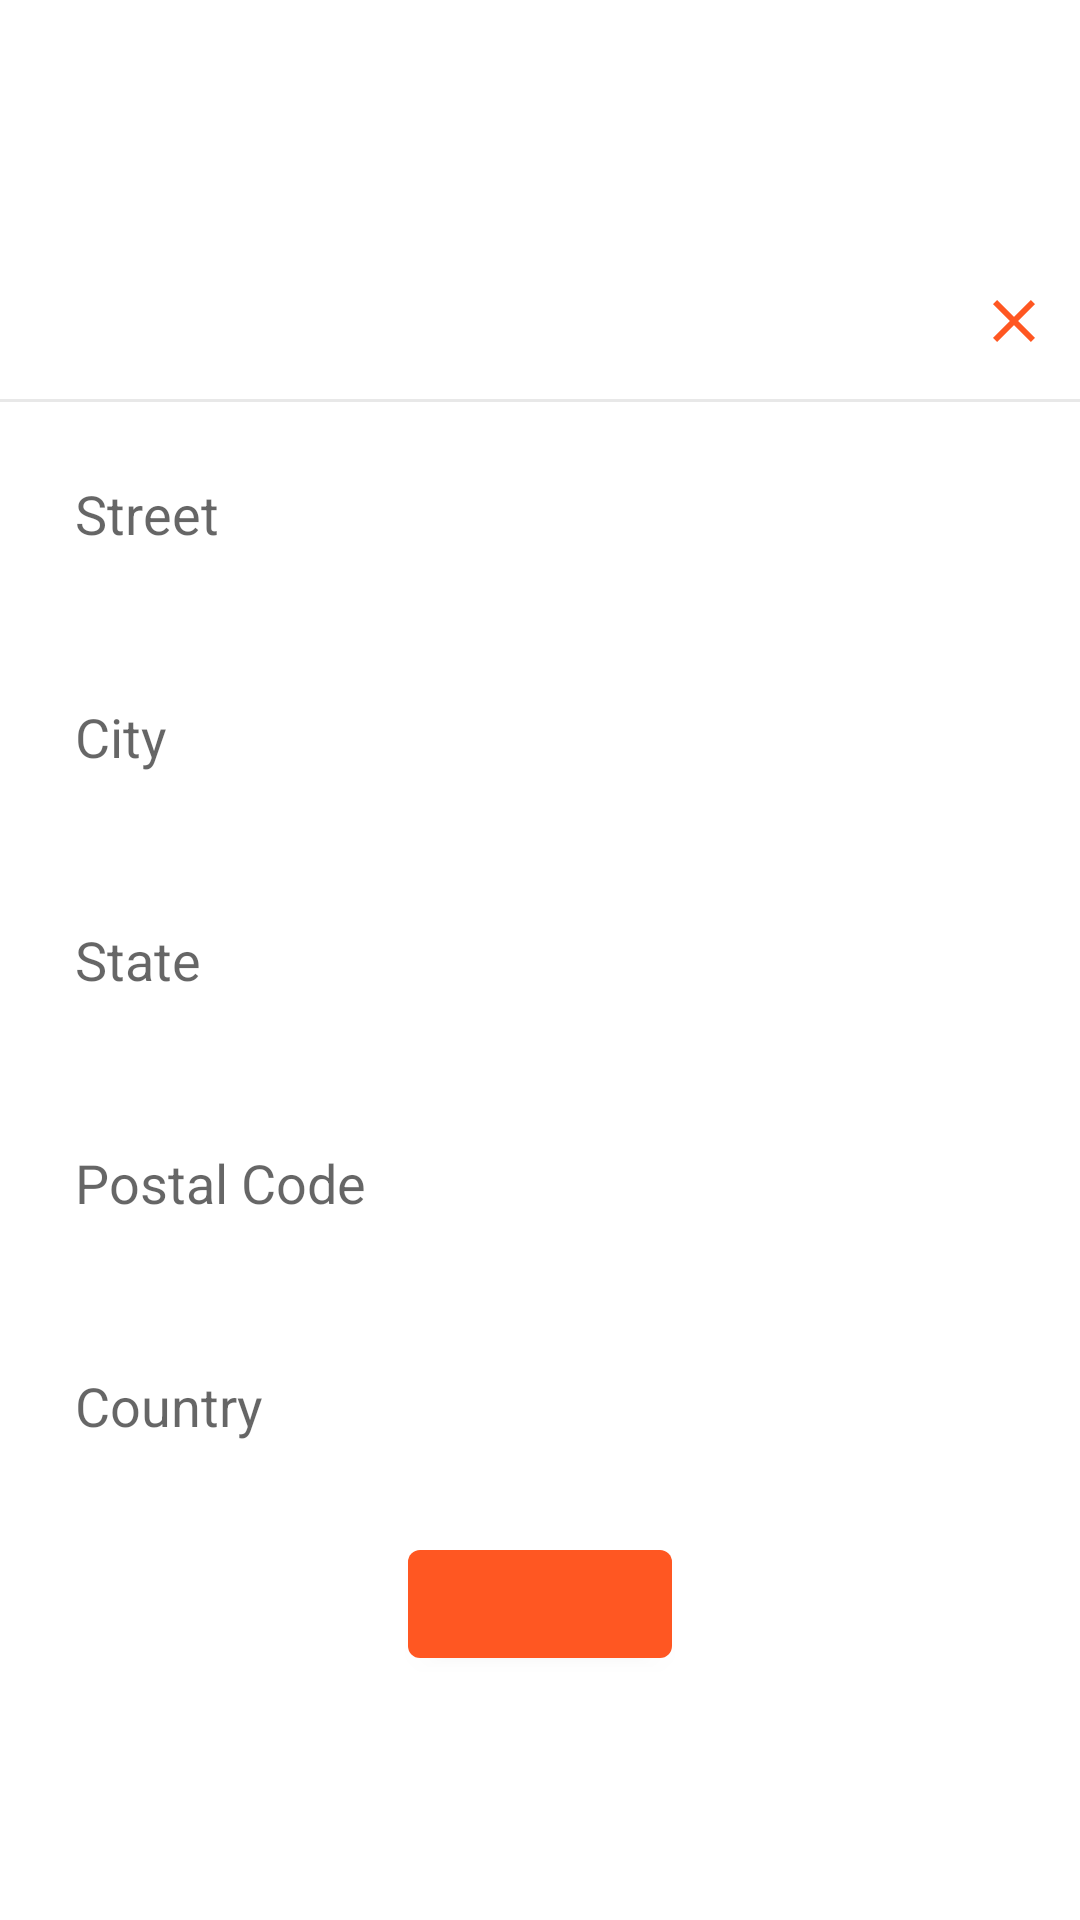

Icon bounding boxes for this 1080w x 1920h phone screenshot, format [x1,y1,x2,y2]:
close: [993,300,1035,342]
